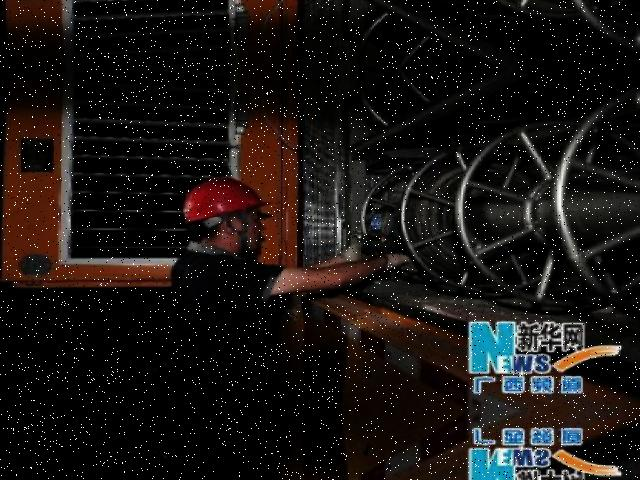Helmet: (172, 170, 271, 228)
